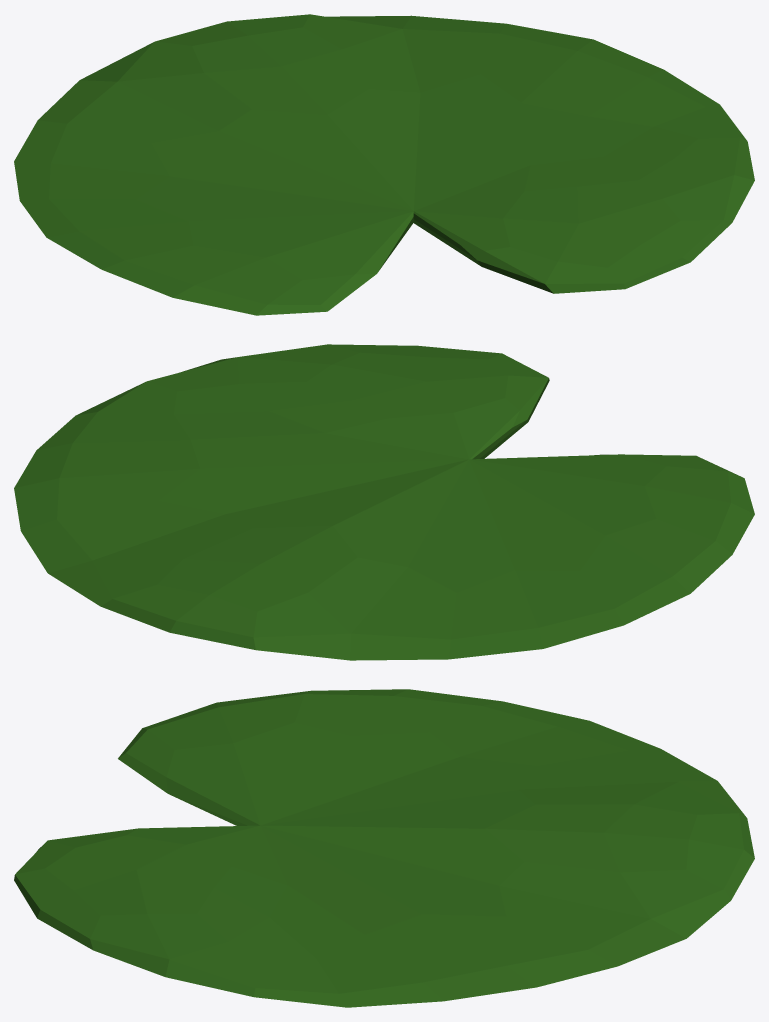
File: Lilypad_1.0.fbx
3 renders of one model, top to bottom at view 1: azimuth 30°, elevation 25°; view 2: azimuth 150°, elevation 25°; view 3: azimuth 270°, elevation 25°, orthographic.
Visible parts, largest first — view 1: nilufer-triangulated; view 2: nilufer-triangulated; view 3: nilufer-triangulated.
Boxes of the visible parts, x1,y1,x2,y2 form: nilufer-triangulated: (14, 14, 754, 315); nilufer-triangulated: (14, 344, 754, 660); nilufer-triangulated: (14, 689, 754, 1007).
Size of the model in its own units: 134 by 5.35 by 133.
